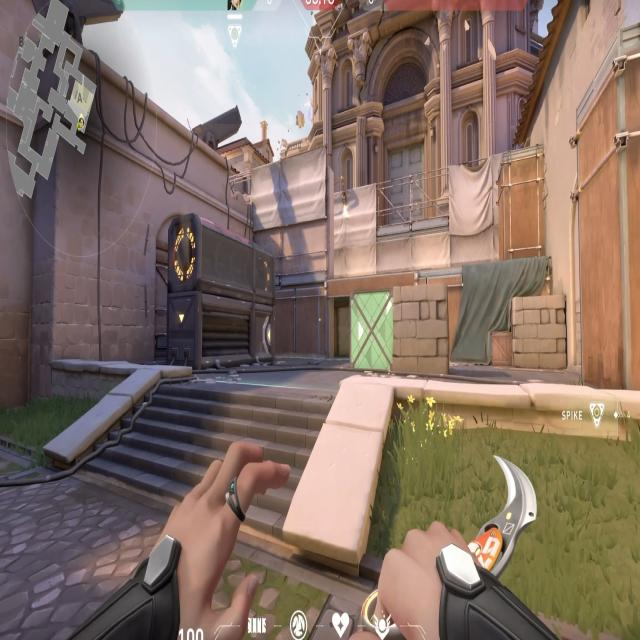A_Heaven_Box: (494, 138, 556, 266)
A_Heaven_Wall: (256, 149, 345, 281)
A_Site_Box: (343, 283, 451, 383)
